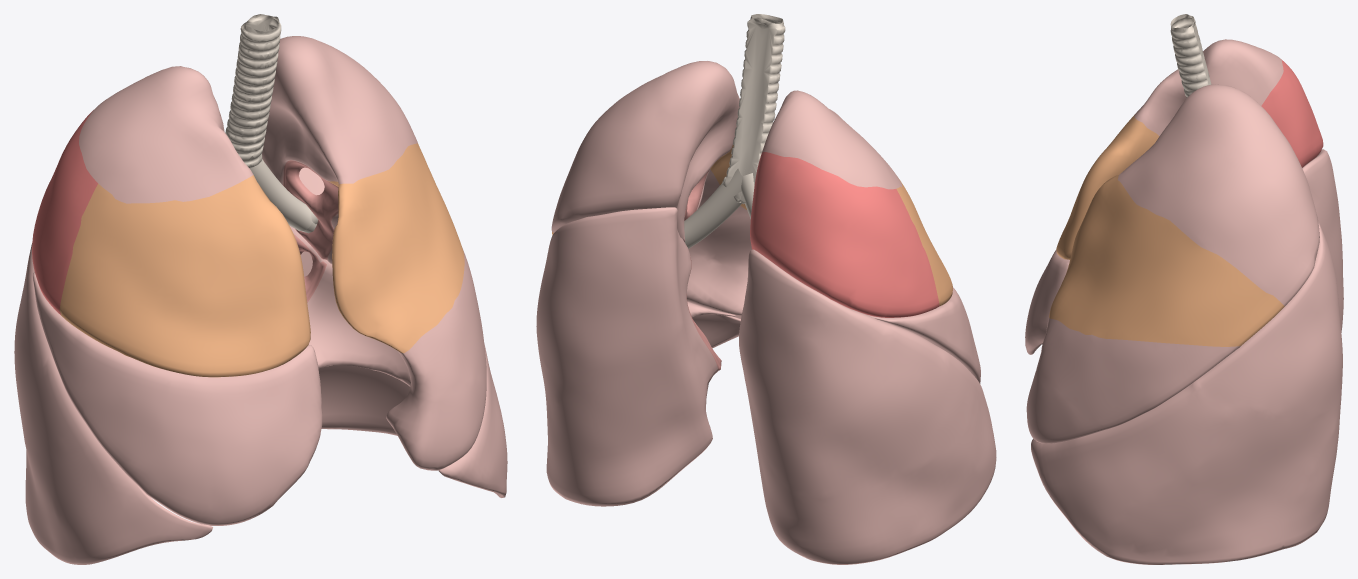
Rendered from lungs.glb.
3 renders of one model, left to right at view 1: azimuth 30°, elevation 25°; view 2: azimuth 150°, elevation 25°; view 3: azimuth 270°, elevation 25°, orthographic. The views are drawn at different scales.
Visible parts, largest first — view 1: Superior lobe of right lung, Superior lobe of left lung, Middle lobe of right lung, Inferior lobe of right lung, Inferior lobe of left lung, Trachea, Left main bronchus; view 2: Inferior lobe of right lung, Inferior lobe of left lung, Superior lobe of right lung, Superior lobe of left lung, Trachea, Middle lobe of right lung, Left main bronchus; view 3: Superior lobe of left lung, Inferior lobe of left lung, Superior lobe of right lung, Inferior lobe of right lung, Trachea, Middle lobe of right lung.
Boxes of the visible parts, x1,y1,x2,y2 form: Superior lobe of right lung: [32, 66, 310, 377]; Superior lobe of left lung: [262, 36, 486, 470]; Middle lobe of right lung: [33, 272, 322, 525]; Inferior lobe of right lung: [14, 243, 212, 564]; Inferior lobe of left lung: [290, 167, 507, 497]; Trachea: [225, 14, 281, 167]; Left main bronchus: [250, 159, 312, 230]; Inferior lobe of right lung: [739, 249, 996, 564]; Inferior lobe of left lung: [536, 207, 740, 506]; Superior lobe of right lung: [750, 90, 952, 317]; Superior lobe of left lung: [551, 61, 751, 318]; Trachea: [722, 14, 785, 203]; Middle lobe of right lung: [865, 287, 980, 383]; Left main bronchus: [684, 168, 742, 248]; Superior lobe of left lung: [1026, 84, 1319, 443]; Inferior lobe of left lung: [1031, 221, 1342, 564]; Superior lobe of right lung: [1056, 39, 1323, 259]; Inferior lobe of right lung: [1042, 149, 1343, 344]; Trachea: [1170, 14, 1211, 98]; Middle lobe of right lung: [1025, 250, 1069, 354].
Size of the model in its own units: 0.261 by 0.2936 by 0.1857.
